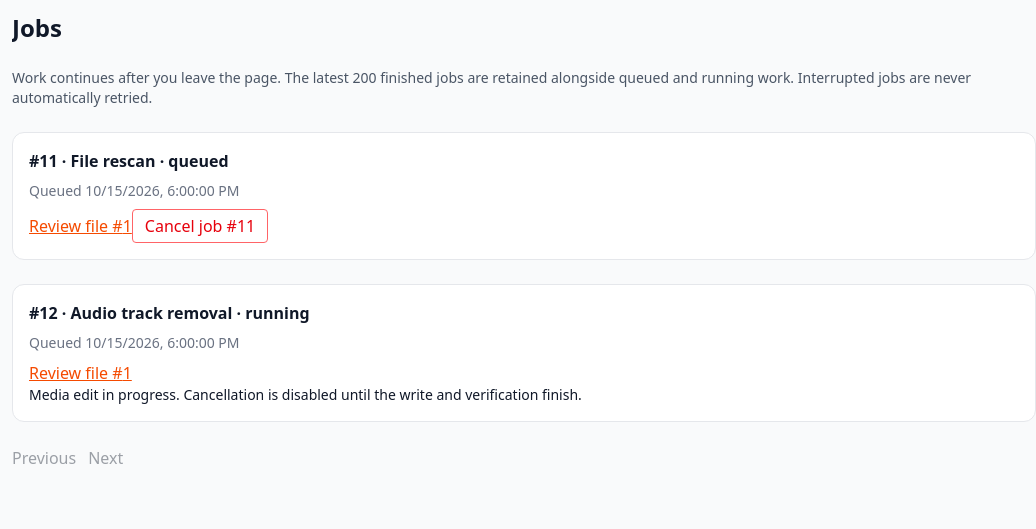
Scenario: cancels queued work but disables mid-write cancellation and shows failures
Expected: the text "Cancellation is disabled" is shown, [29,385,582,404]
Click the button "Cancel job #11": [200, 226] box [132,209,268,243]
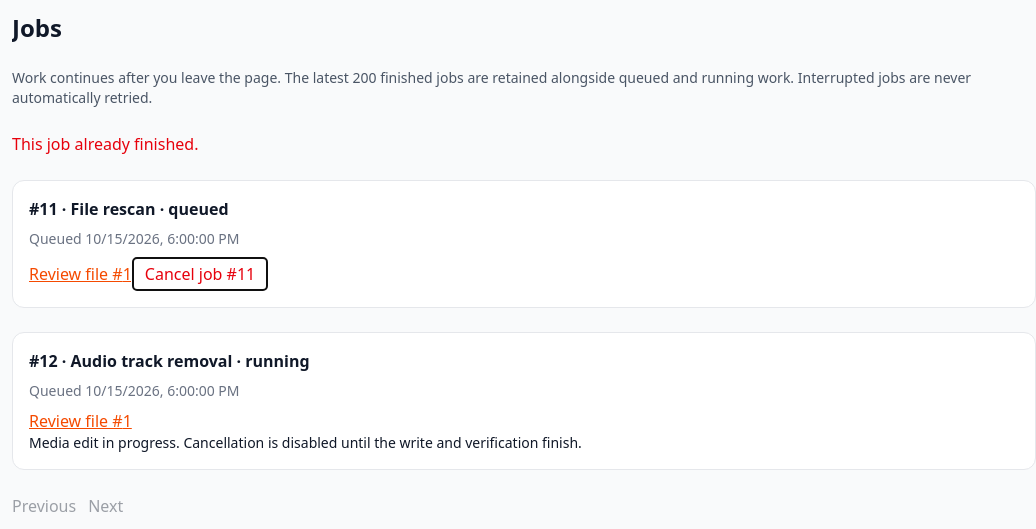
Expected: the message reads "This job already finished.", [12,133,198,155]
